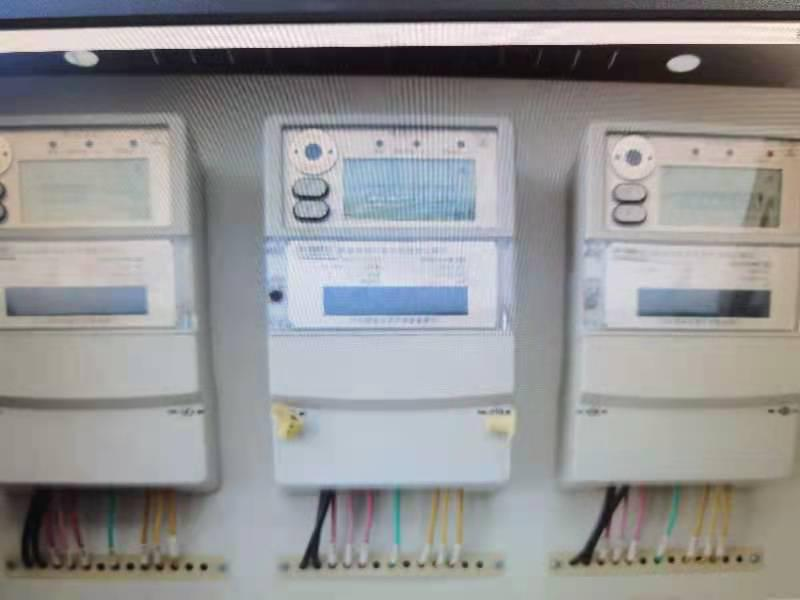digital: (260, 113, 515, 485), (567, 119, 800, 480), (1, 113, 205, 486)
